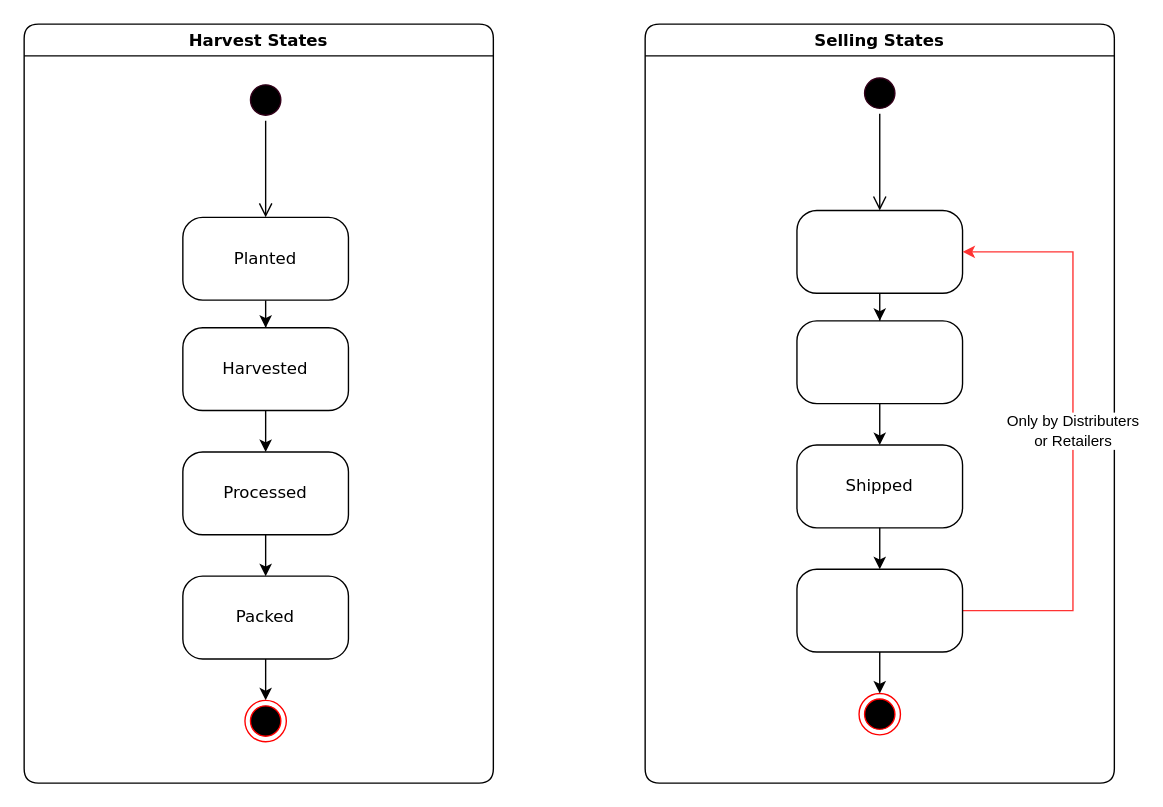
Some shapes in this 1163 by 807 pixel diagram are drawn without their labels. Each missing label, with the box of its shape:
For Sale: (796, 209, 963, 293)
Received: (796, 568, 963, 652)
Sold: (796, 319, 963, 404)
